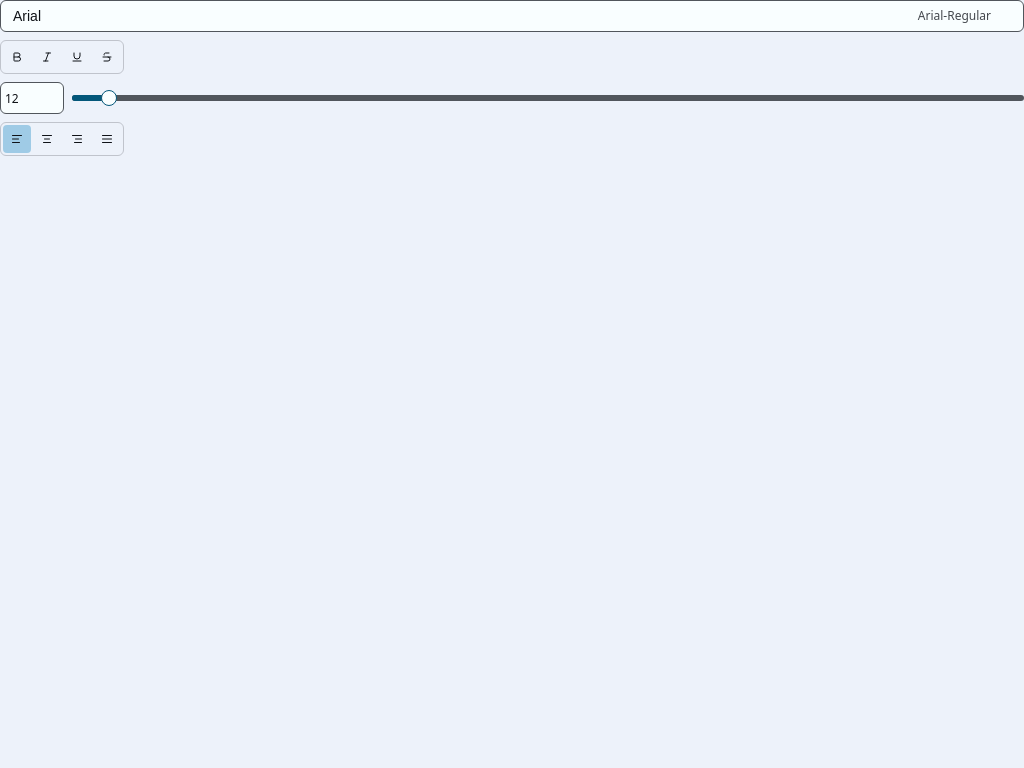
FontPicker font groups › moves a recent family out of the system list into Recent
Click the button "Arial Arial-Regular".
click(954, 16)  # box [0,0,1023,32]
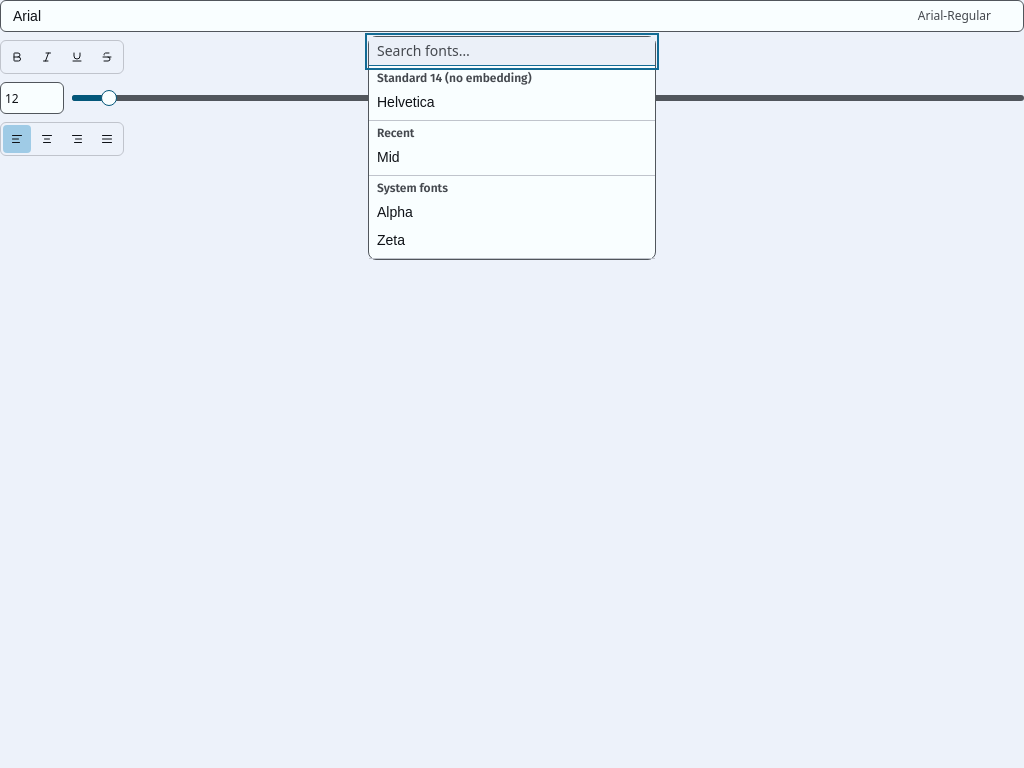
Check: the button "Mid" is shown, box [369,143,655,171]
